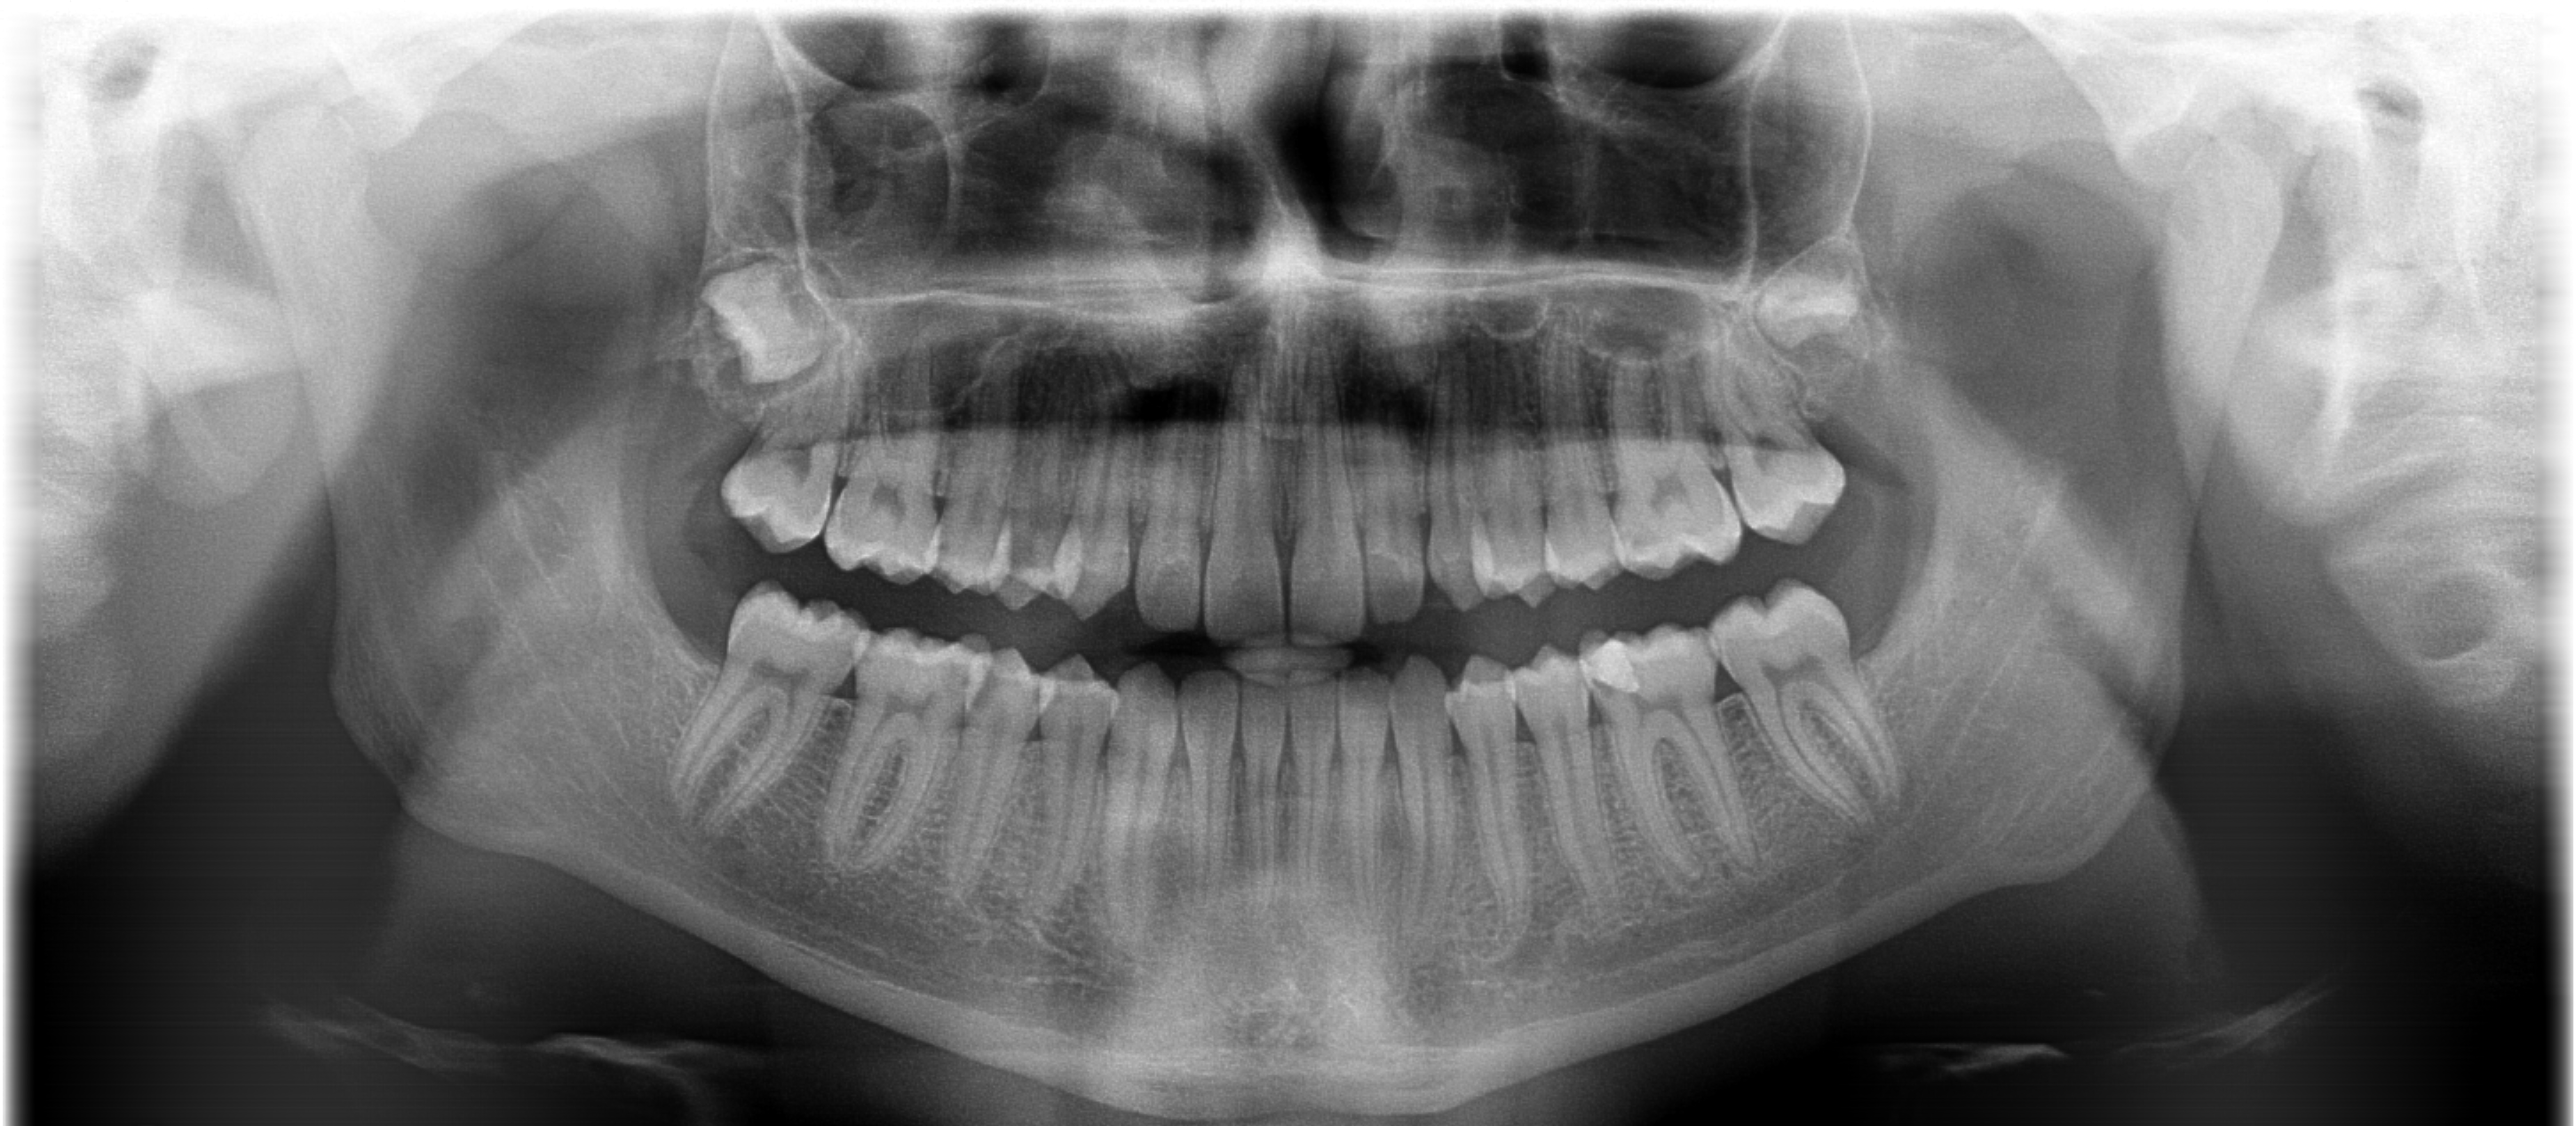cordal: (1727, 235, 1925, 390), (669, 256, 869, 409)
